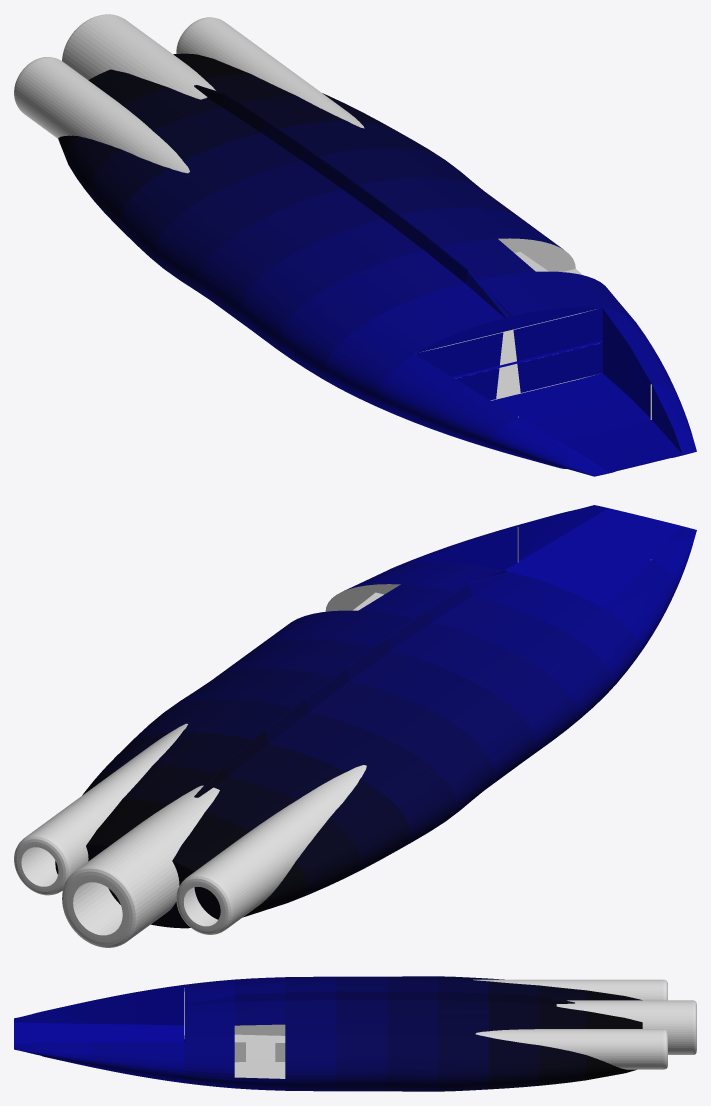
The model's file is holo_starship_a.gltf.
3 renders of one model, top to bottom at view 1: azimuth 30°, elevation 25°; view 2: azimuth 150°, elevation 25°; view 3: azimuth 270°, elevation 25°, orthographic. The views are drawn at different scales.
Visible parts, largest first — view 1: ship; view 2: ship; view 3: ship.
Part boxes in pixels (x1,y1,x2,y2): ship: (14,14,696,476); ship: (14,505,696,947); ship: (14,976,696,1091).
Size of the model in its own units: 33.19 by 13.28 by 104.
